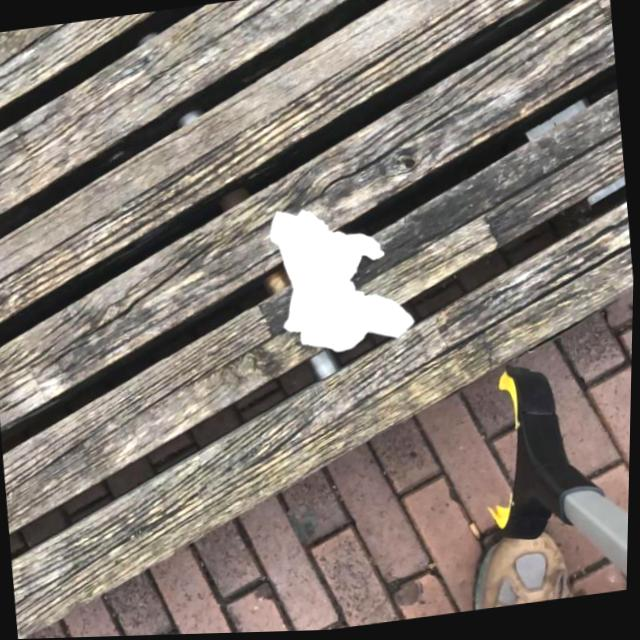Paper: (265, 192, 421, 363)
